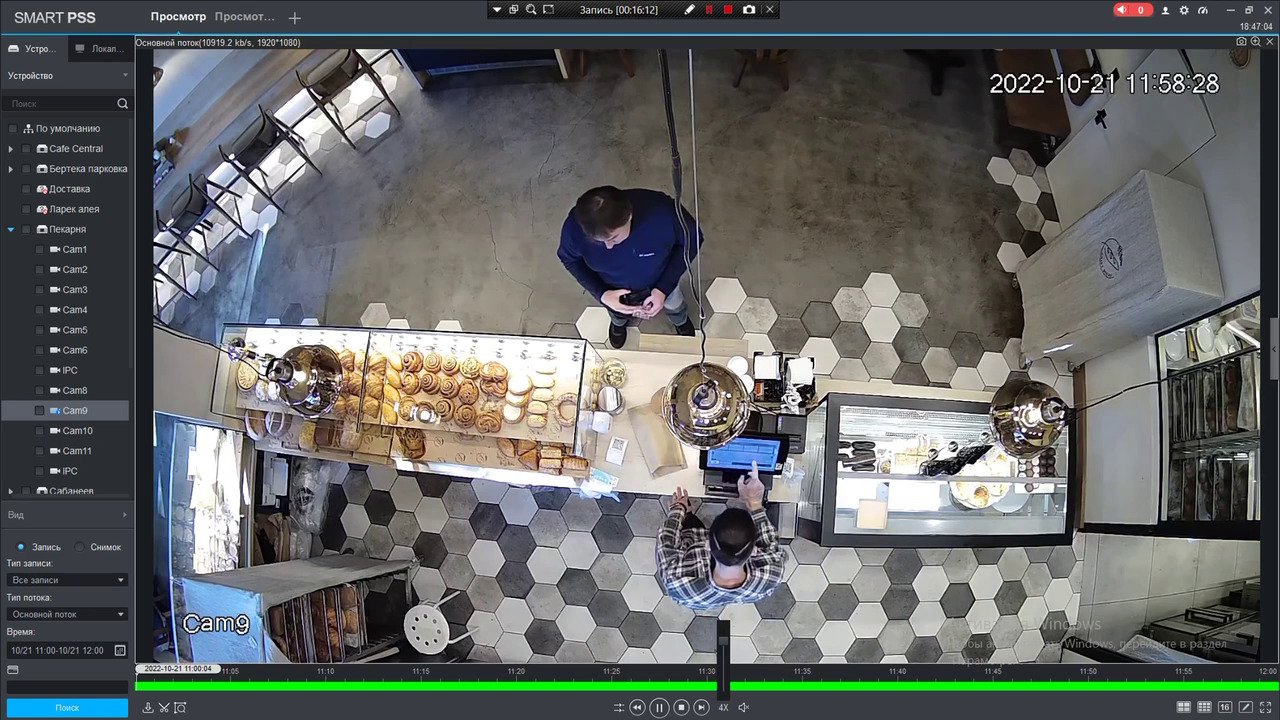barcounter: (183, 329, 1083, 514)
pack: (623, 393, 680, 472)
person: (546, 182, 720, 335), (663, 493, 800, 614)
